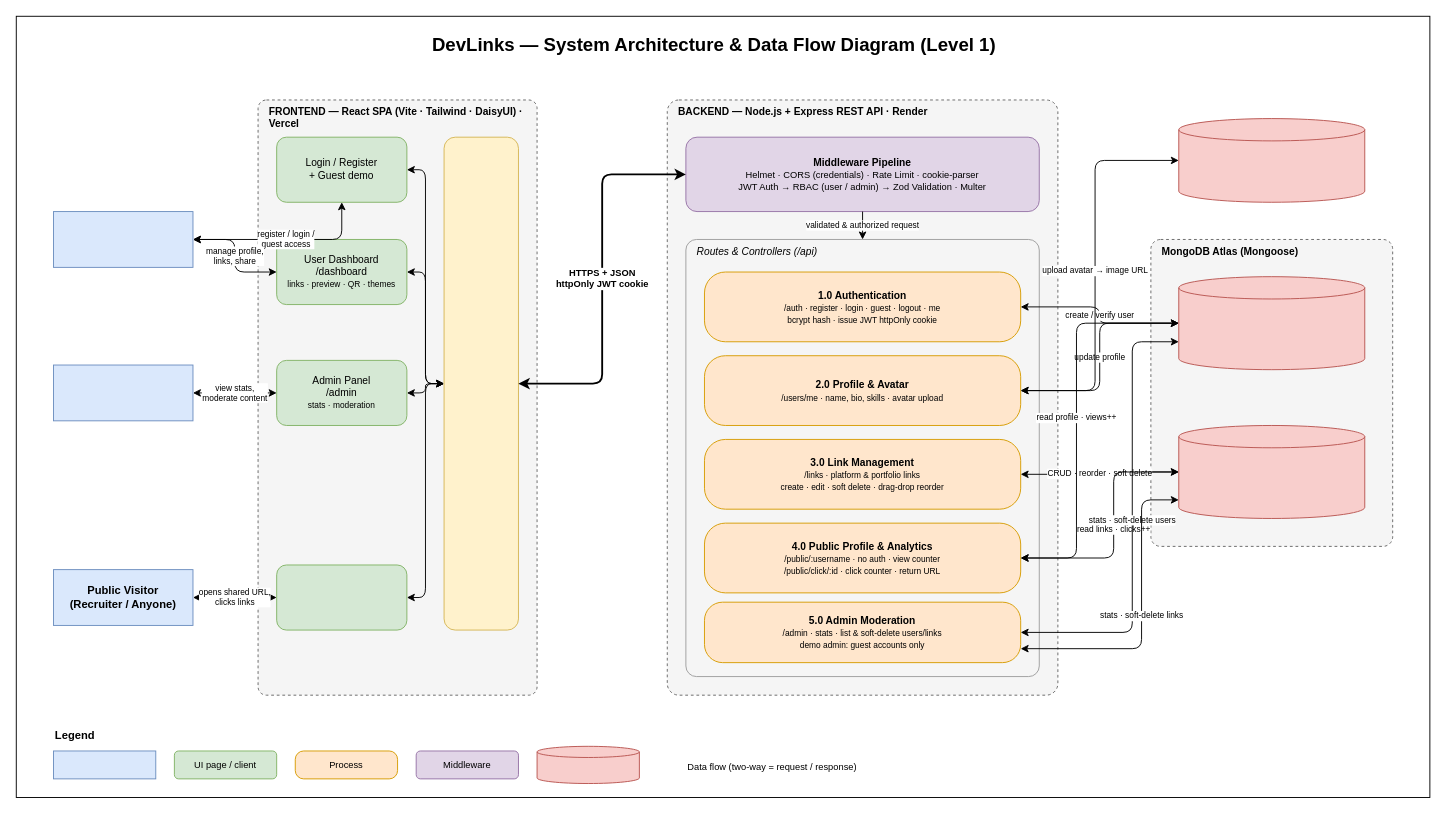
This 1446x814 diagram has some shape labels left out. The shapes that lost their labels are listed below. From the top down, each one's centre as x and y in pixels, then its label:
At point 1271,160: "D3 Cloudinary avatar images".
At point 123,239: "Developer (Registered / Guest User)".
At point 1271,323: "D1 Users credentials · profile · role · counters · isDeleted".
At point 123,392: "Admin (Real / Demo Admin)".
At point 480,383: "Axios API Service Layer (withCredentials) · Auth Context · Route Guards".
At point 1271,471: "D2 Links type · url · order · clicks · isDeleted".
At point 341,597: "Public Profile /u/:username".
At point 104,764: "External entity".
At point 587,764: "Data store".
